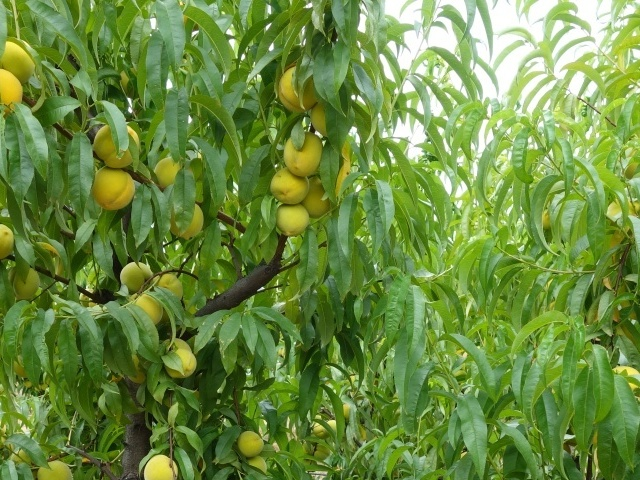peach: (91, 119, 144, 170), (275, 67, 320, 119), (92, 163, 137, 214), (283, 129, 327, 178), (1, 35, 44, 85), (268, 163, 313, 204), (167, 199, 208, 243), (272, 199, 313, 240), (298, 175, 336, 218), (1, 65, 29, 120), (304, 91, 336, 138), (149, 151, 186, 190), (127, 291, 168, 326), (118, 259, 156, 294), (160, 347, 198, 380), (151, 271, 186, 304), (140, 452, 180, 480), (236, 427, 267, 463), (10, 265, 42, 299), (33, 459, 77, 480), (159, 333, 194, 359), (1, 219, 20, 264), (244, 449, 272, 477)
